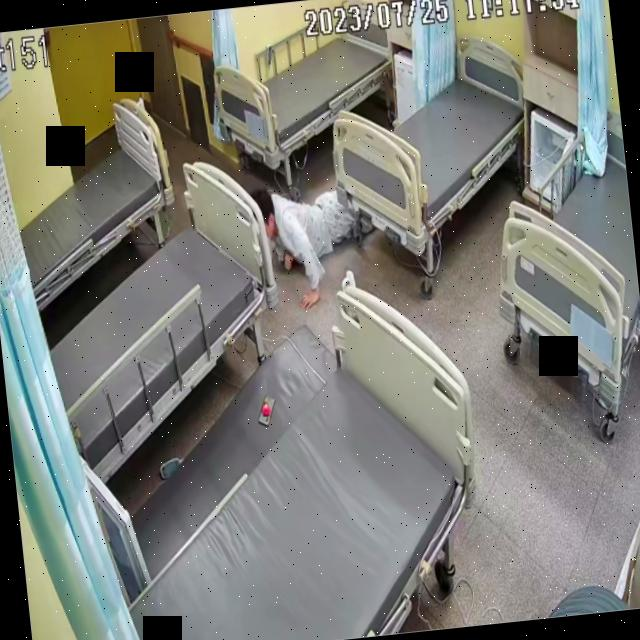bed: (97, 284, 485, 640), (27, 160, 290, 476), (485, 109, 640, 415), (321, 39, 535, 240), (5, 95, 183, 306), (213, 8, 400, 170)
fall: (255, 161, 362, 308)
patient: (256, 156, 362, 305)
